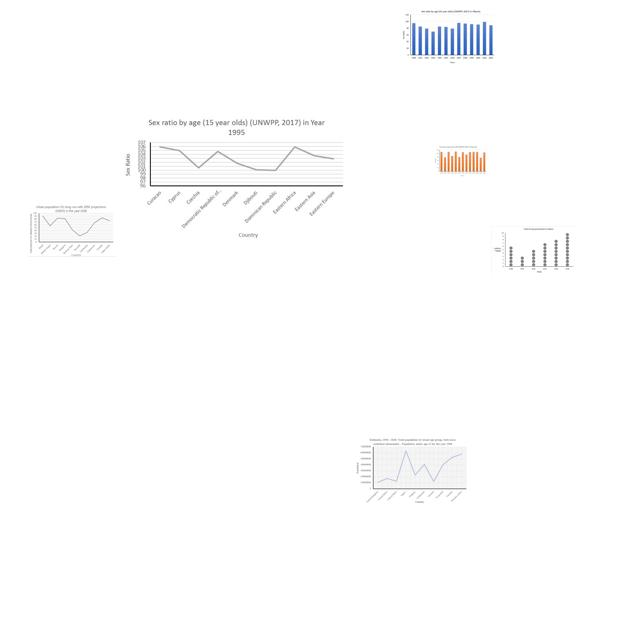Graph: (124, 113, 345, 241), (356, 437, 468, 504), (402, 8, 497, 65), (28, 204, 115, 257), (491, 226, 575, 275), (433, 145, 488, 177)
